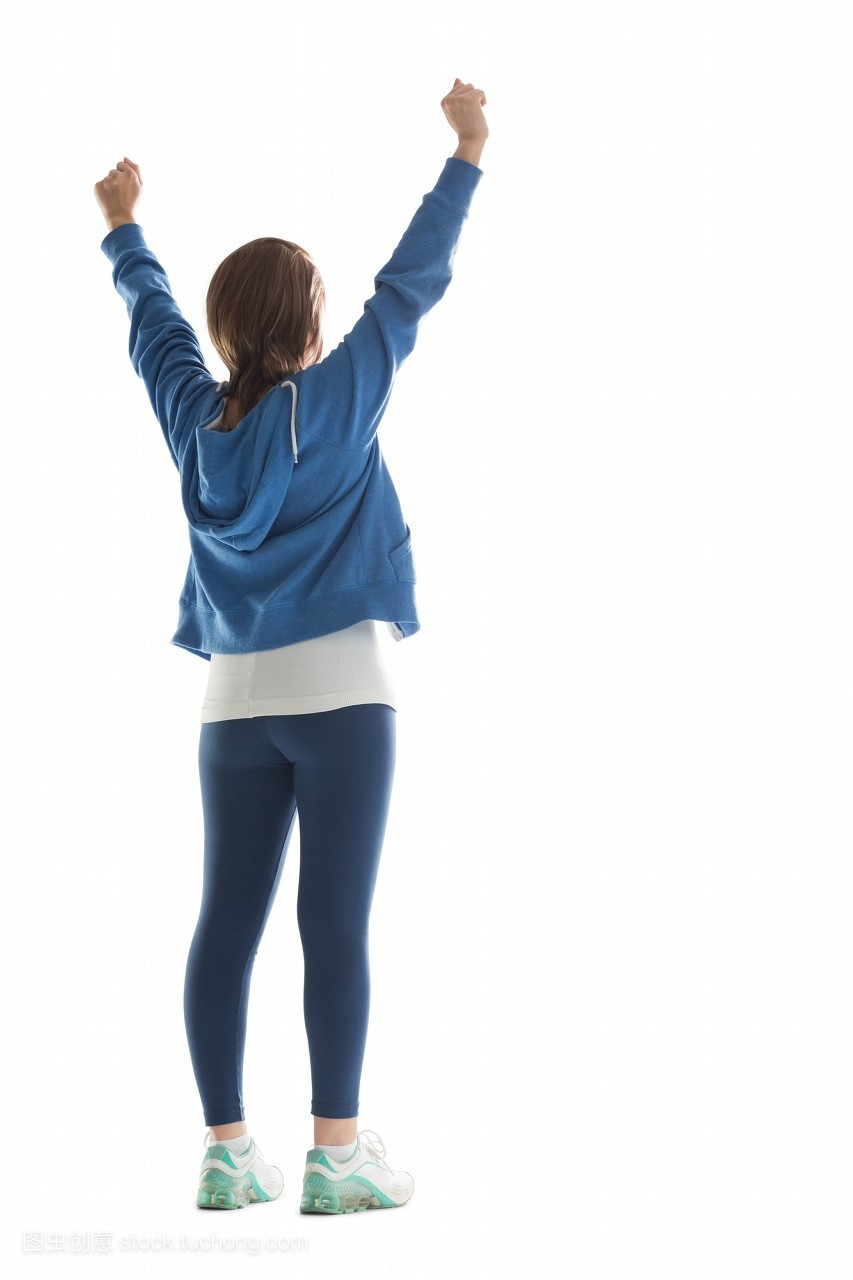handsup: (88, 70, 609, 1253)
